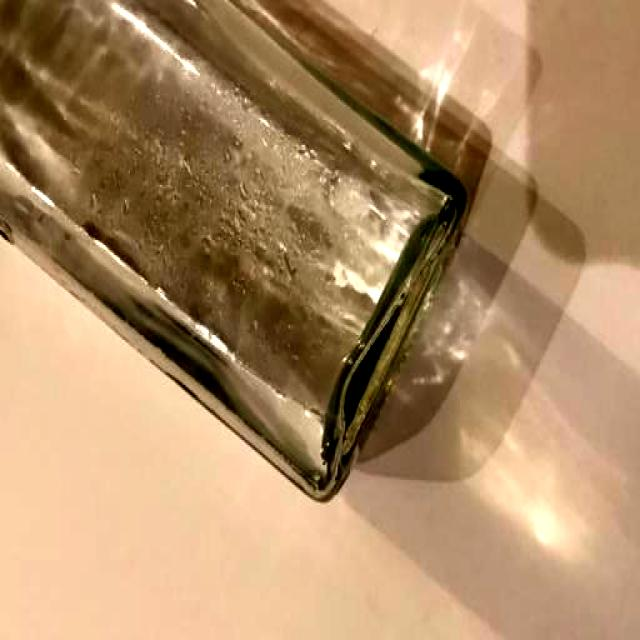Glass: (0, 0, 470, 515)
